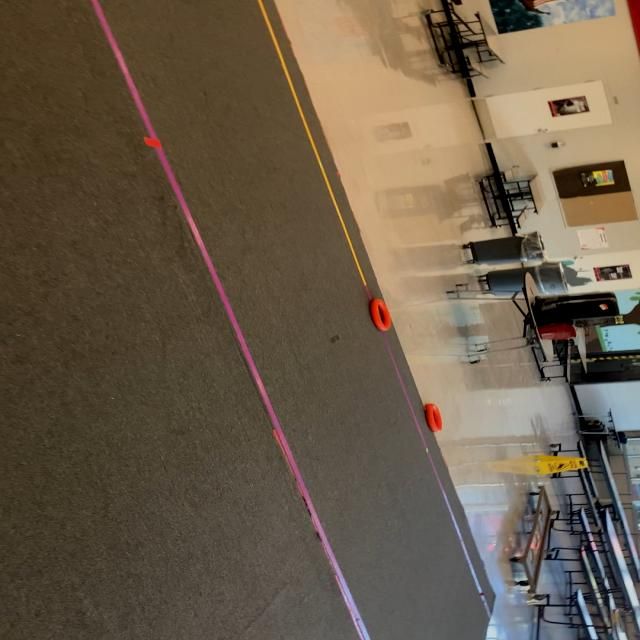notes: (360, 297, 396, 330)
